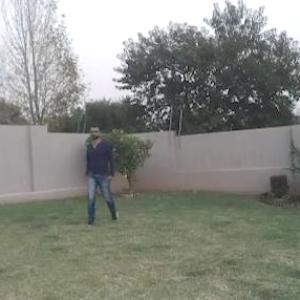follow: (82, 123, 116, 230)
